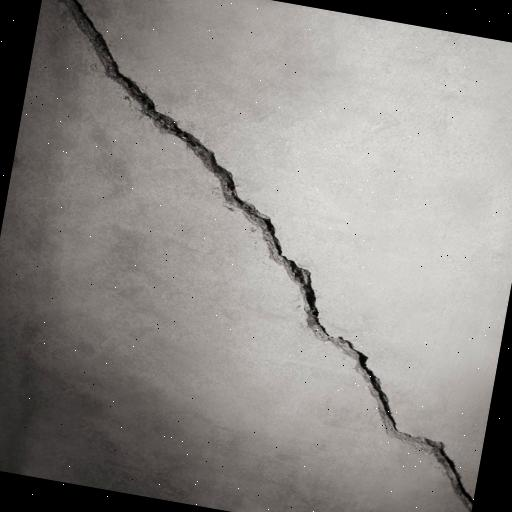spalling: (54, 0, 473, 512)
